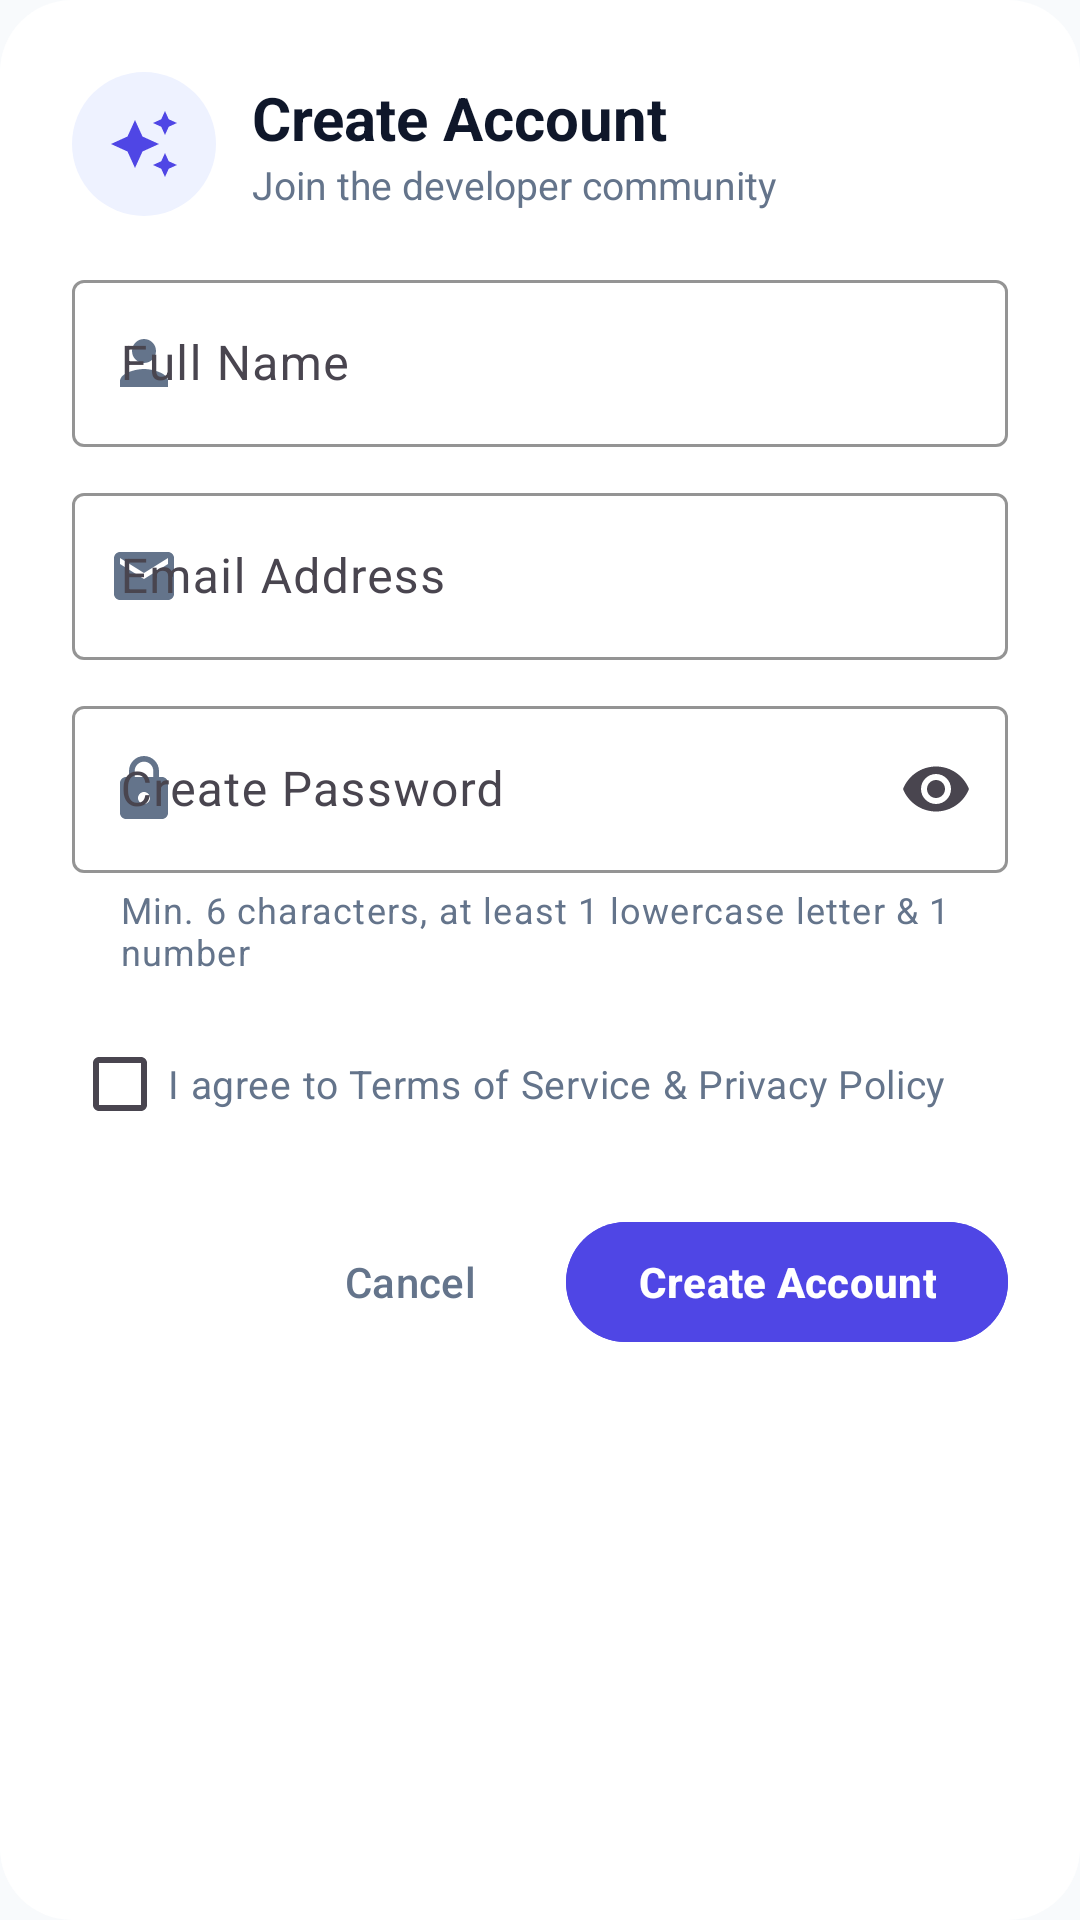

Named icons in this screenshot (1080 × 1920) and their centers, point (x, y):
sparkle: point (144, 144)
